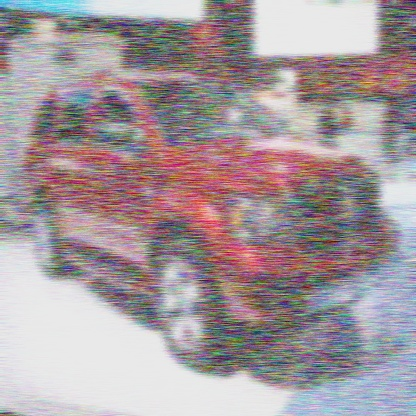Vehicle: (23, 68, 396, 370)
